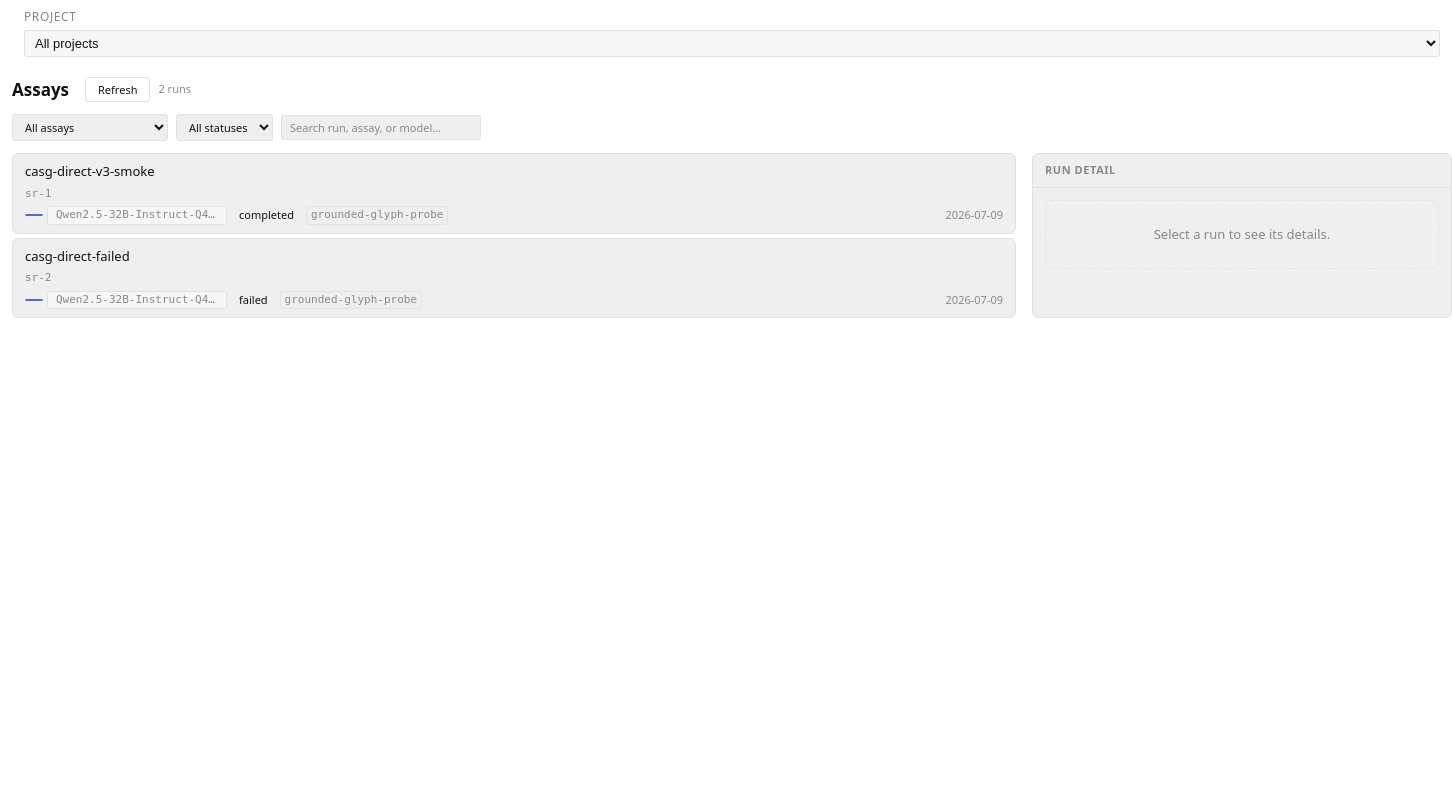
Scenario: AssaysPage › clicking a row opens the detail panel with provenance + score grid
Click the list item with test id "assay-row" that starts with "casg-direct-v3-smoke" at coordinates (514, 193), box [12, 153, 1016, 234]
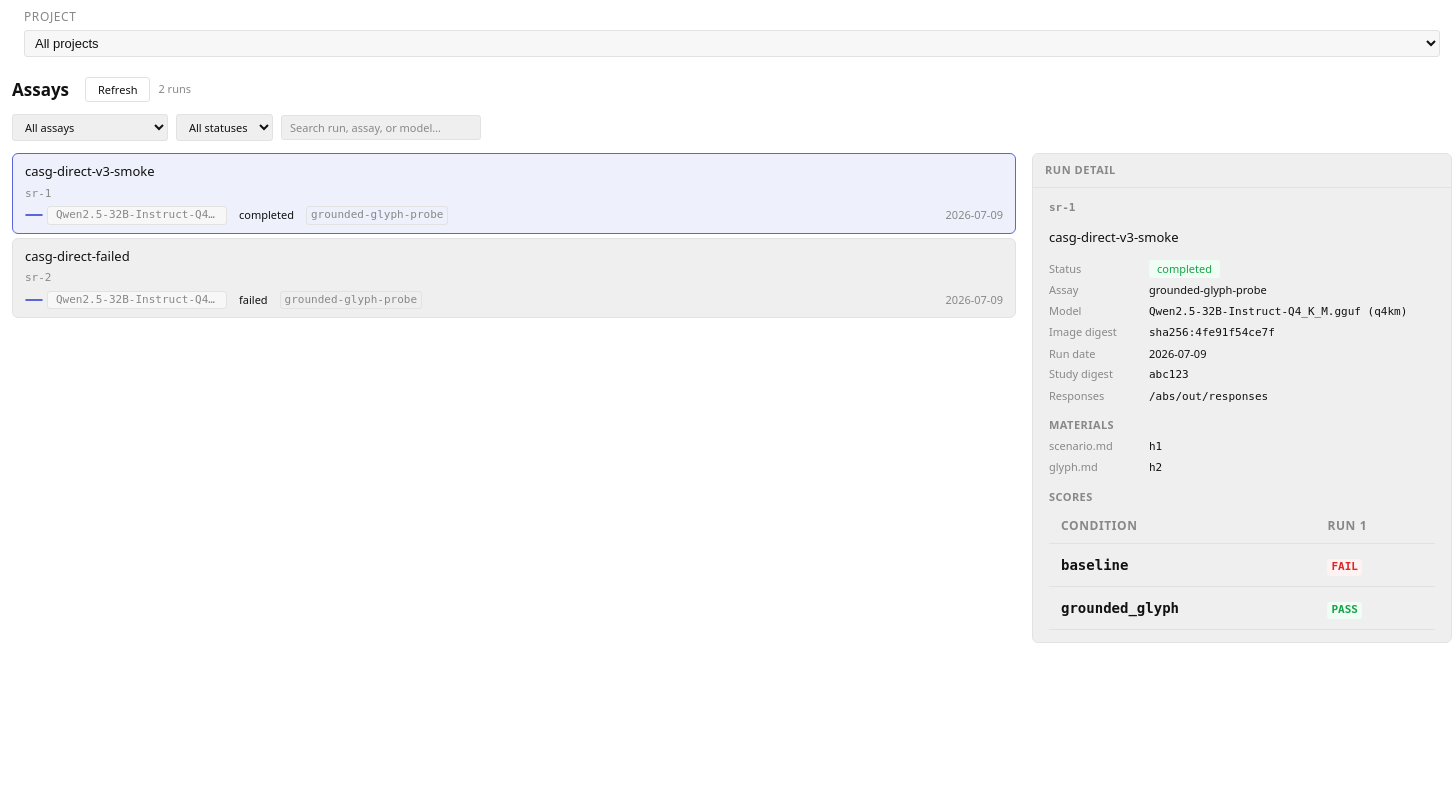
Now the text with test id "assay-detail-run-id" reads "sr-1", box [1049, 200, 1076, 214]
Now the text with test id "assay-detail-image-digest" reads "sha256:4fe91f54ce7f", box [1149, 326, 1275, 339]
Now the text with test id "assay-detail-model" shows "Qwen2.5-32B-Instruct-Q4_K_M.gguf", box [1149, 304, 1361, 318]
